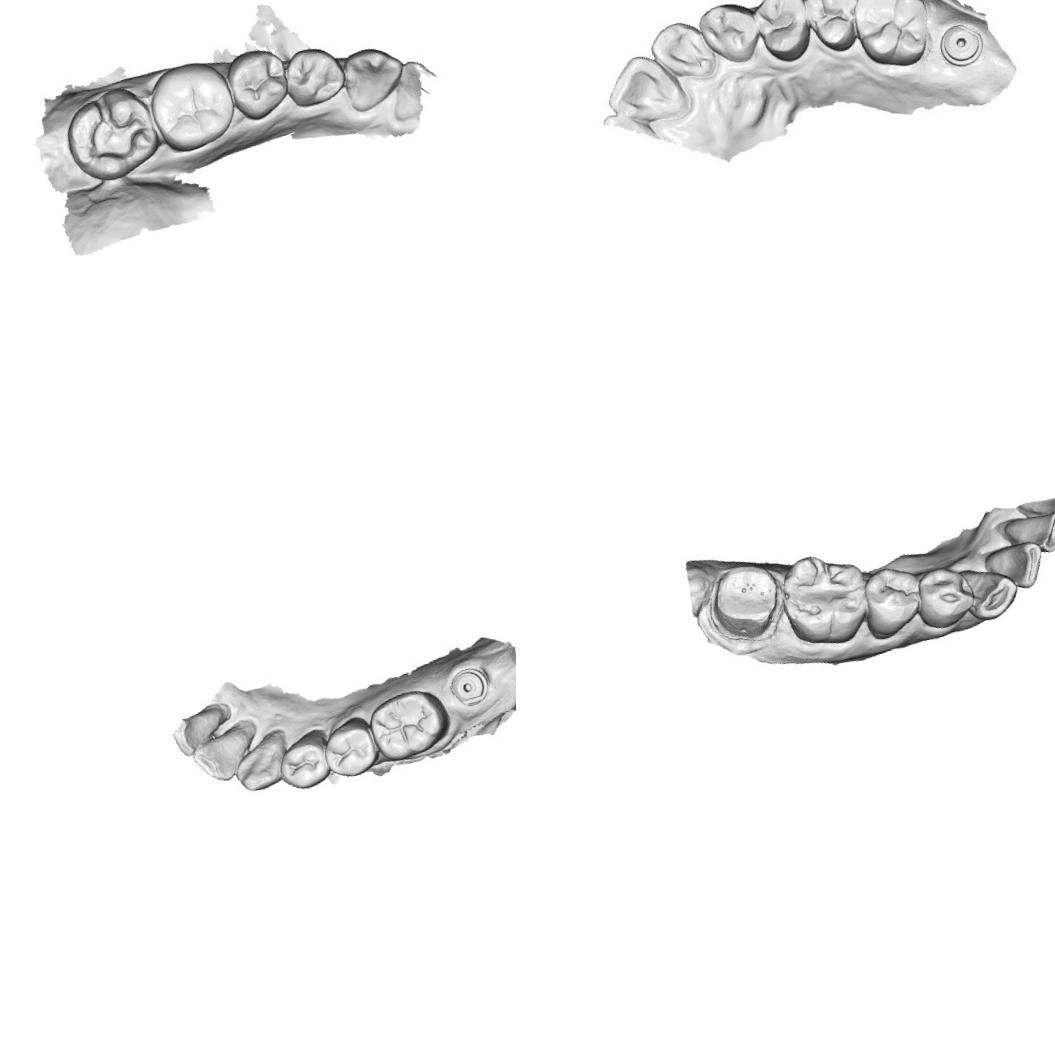canine: (334, 36, 412, 116), (696, 0, 766, 71), (957, 557, 1023, 624), (228, 734, 290, 795)
crown: (696, 552, 794, 652)
implant: (930, 14, 991, 80), (444, 661, 490, 710)
incisor: (604, 52, 684, 126), (980, 539, 1050, 598), (649, 16, 711, 82), (188, 726, 252, 787), (168, 708, 228, 760), (1000, 507, 1055, 562)
inlay: (74, 86, 156, 171)
molar: (770, 544, 876, 658), (141, 54, 241, 158), (364, 682, 456, 766), (845, 0, 937, 74)
premolar: (220, 42, 298, 126), (858, 560, 928, 642), (276, 38, 351, 112), (910, 560, 978, 634), (750, 0, 818, 67), (317, 713, 382, 782), (803, 0, 868, 56), (272, 734, 332, 794)
